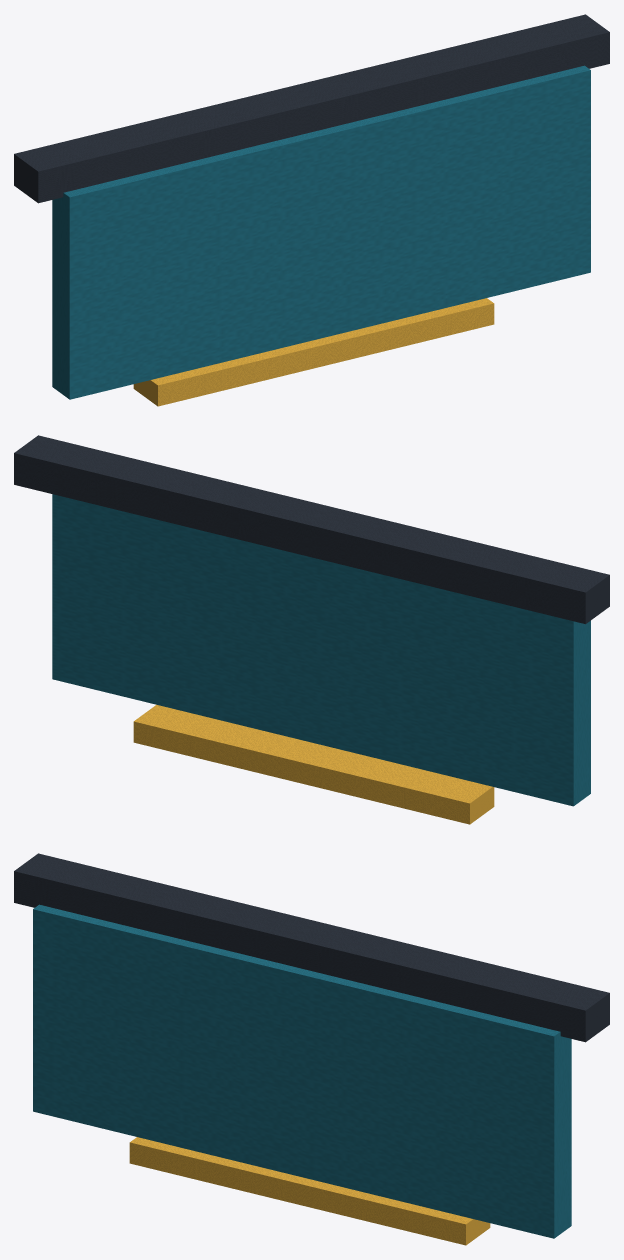
The model's file is reference_sports_sunglasses.gltf.
The picture shows the model from 3 angles, top to bottom: view 1: azimuth 30°, elevation 25°; view 2: azimuth 150°, elevation 25°; view 3: azimuth 330°, elevation 25°; orthographic projection.
Visible parts, largest first — view 1: Sports Sunglasses; view 2: Sports Sunglasses; view 3: Sports Sunglasses.
Boxes of the visible parts, left/top/right/bottom form: Sports Sunglasses: left=14, top=14, right=609, bottom=406; Sports Sunglasses: left=14, top=435, right=609, bottom=824; Sports Sunglasses: left=14, top=853, right=609, bottom=1245.
Size of the model in its own units: 0.34 by 0.149 by 0.0315.
Materials: 3 (3 with a texture image).
